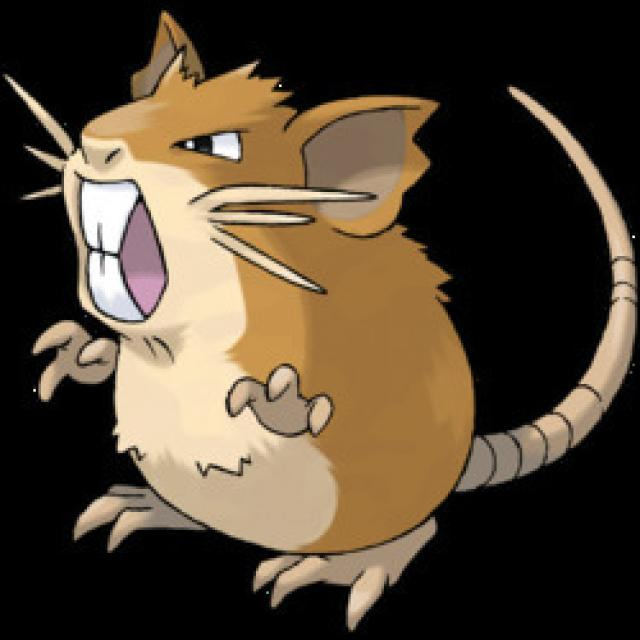Raticate: (70, 22, 522, 532)
